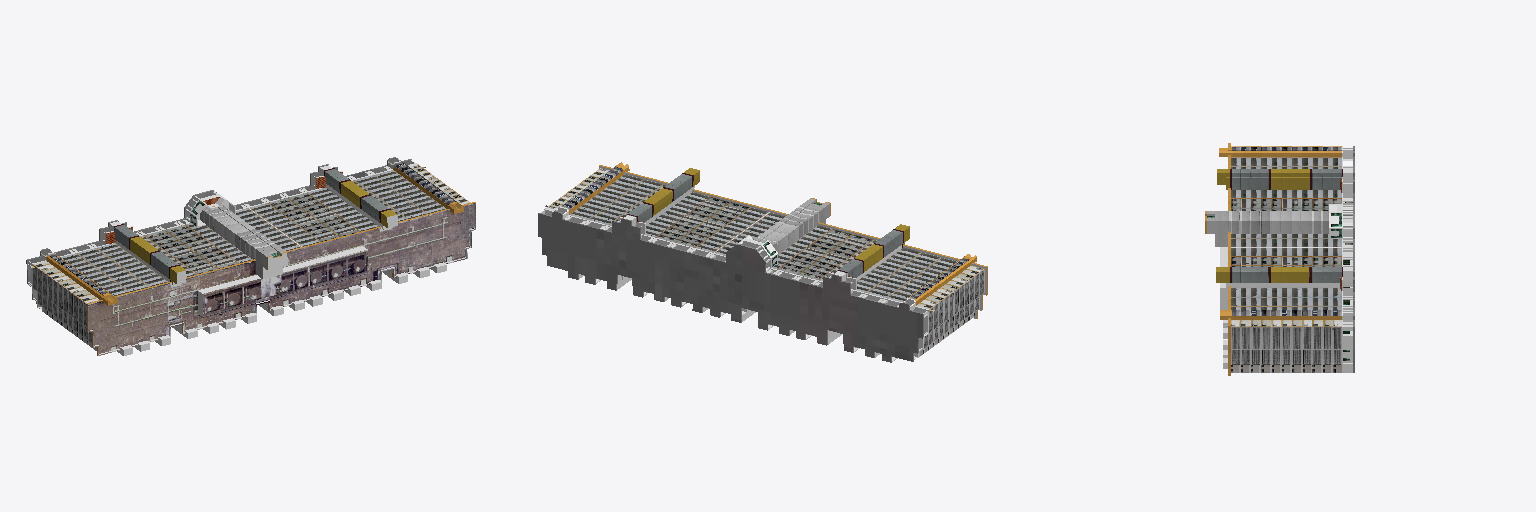
3 views of the same model, side by side, from view 1: azimuth 30°, elevation 25°; view 2: azimuth 150°, elevation 25°; view 3: azimuth 270°, elevation 25° (orthographic).
Parts seen in each view (by area): view 1: polygon.814; view 2: polygon.814; view 3: polygon.814.
Part boxes in pixels (left/top/right/bottom): polygon.814: left=26, top=157, right=475, bottom=355; polygon.814: left=538, top=162, right=987, bottom=362; polygon.814: left=1205, top=143, right=1354, bottom=375.
Bounding box in the file's own units: 123 × 24.31 × 40.66.
Materials: 1 (1 with a texture image).